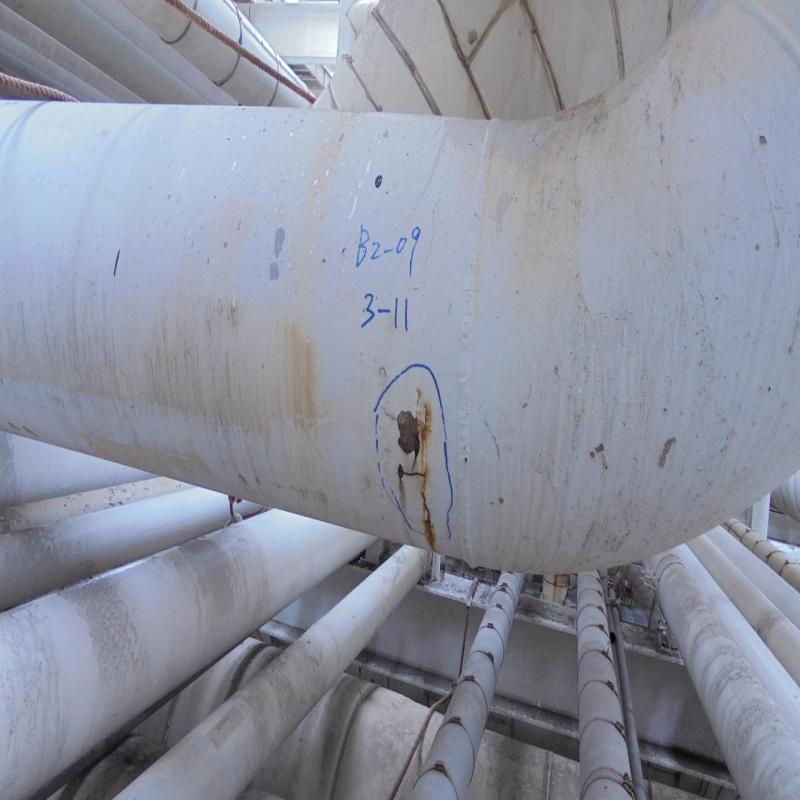corrosion: (394, 400, 440, 558)
